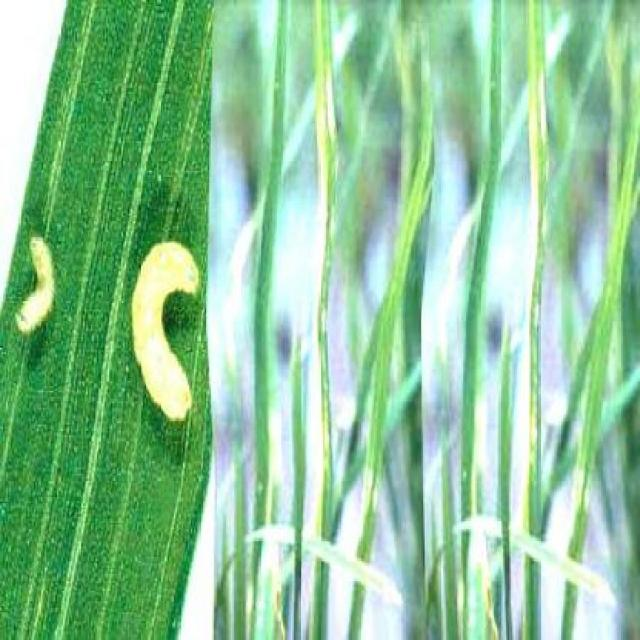whorl-maggot: (124, 234, 204, 431), (14, 226, 61, 346)
